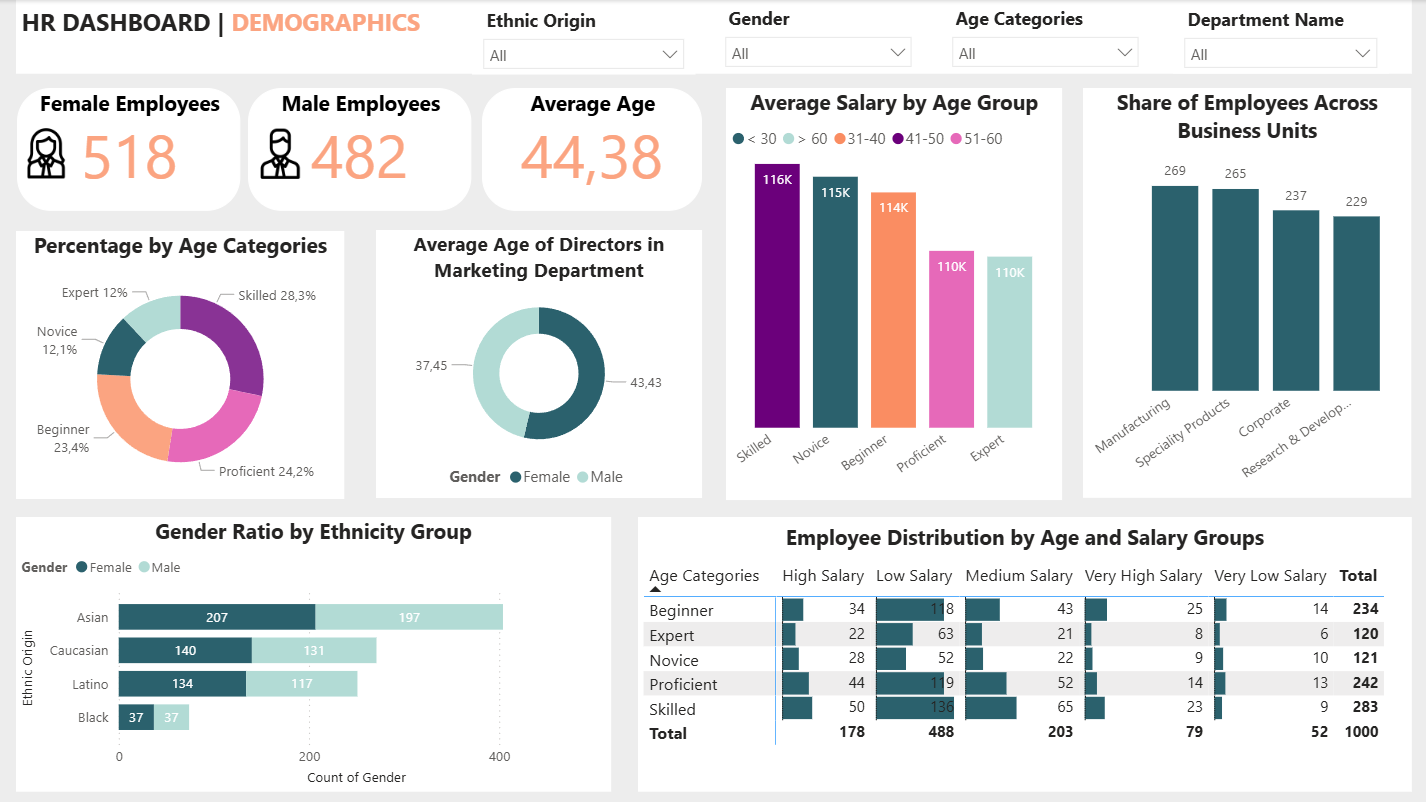

This screenshot's page, from the dashboard's own definition file:
{"tool":"powerbi","page":{"name":"Demographics","canvas":[1280,720],"ordinal":2},"visuals":[{"type":"barChart","title":"Gender Ratio by Ethnicity Group","fields":{"Category":["Ethnicity.Ethnic Origin"],"Series":["Employee Data.Gender"],"Y":["CountNonNull(Employee Data.Gender)"]},"box":[17.1,462.9,532.9,245.7],"z":0},{"type":"donutChart","title":"Average Age of Directors in Marketing Department","fields":{"Category":["Employee Data.Gender"],"Y":["Avg(Employee Data.Age)"]},"box":[339.1,206.4,291.8,240],"z":1000},{"type":"columnChart","title":"Average Salary by Age Group","fields":{"Category":["Employee Data.Age Categories"],"Y":["Avg(Employee Data.Annual Salary)"],"Series":["Employee Data.Age Group"]},"box":[652.9,78.6,301.4,368.6],"z":2000},{"type":"pivotTable","title":"Employee Distribution by Age and Salary Groups","fields":{"Values":["CountNonNull(Employee Data.EEID)"],"Rows":["Employee Data.Age Categories"],"Columns":["Employee Data.Salary Category"]},"box":[574.3,462.9,692.9,245.7],"z":3000},{"type":"donutChart","title":"Percentage by Age Categories","fields":{"Category":["Employee Data.Age Categories"],"Y":["CountNonNull(Employee Data.EEID)"]},"box":[17.1,207.1,294.3,240],"z":4000},{"type":"textbox","box":[17.3,0,1250,66.4],"z":5000},{"type":"slicer","fields":{"Values":["Ethnicity.Ethnic Origin"]},"box":[425.3,2,200,64.7],"z":6000},{"type":"slicer","fields":{"Values":["Employee Data.Gender"]},"box":[642,0,187.3,64.7],"z":7000},{"type":"slicer","fields":{"Values":["Employee Data.Age Categories"]},"box":[845.3,0,187.3,64.7],"z":8000},{"type":"card","title":"Female Employees","fields":{"Values":["CountNonNull(Employee Data.Gender)"]},"box":[17.8,78.9,200,110],"z":9000},{"type":"card","title":"Male Employees","fields":{"Values":["CountNonNull(Employee Data.Gender)"]},"box":[225,79.2,200,110],"z":10000},{"type":"card","title":"Average Age","fields":{"Values":["Avg(Employee Data.Age)"]},"box":[434.2,79.2,196.7,110],"z":11000},{"type":"image","box":[225.7,84.3,55.7,107.1],"z":12000},{"type":"image","box":[17.1,78.6,54.3,117.1],"z":13000},{"type":"slicer","fields":{"Values":["Department.Department Name"]},"box":[1053.3,0.7,192.7,64.7],"z":14000},{"type":"columnChart","title":"Share of Employees Across Business Units","fields":{"Category":["Employee Data.Business Unit"],"Y":["CountNonNull(Employee Data.EEID)"]},"box":[972.9,78.6,294.3,367.1],"z":15000}]}

Visuals, with their boxes in screenshot pixels (x1, y1, x2, y2), scaled from the page's 1280x720 canvas onto the 1426x802 screenshot:
"Gender Ratio by Ethnicity Group" barChart: [19, 516, 613, 789]
"Average Age of Directors in Marketing Department" donutChart: [378, 230, 703, 497]
"Average Salary by Age Group" columnChart: [727, 88, 1063, 498]
"Employee Distribution by Age and Salary Groups" pivotTable: [640, 516, 1412, 789]
"Percentage by Age Categories" donutChart: [19, 231, 347, 498]
textbox: [19, 0, 1412, 74]
slicer - Ethnicity.Ethnic Origin: [474, 2, 697, 74]
slicer - Employee Data.Gender: [715, 0, 924, 72]
slicer - Employee Data.Age Categories: [942, 0, 1150, 72]
"Female Employees" card: [20, 88, 243, 210]
"Male Employees" card: [251, 88, 473, 211]
"Average Age" card: [484, 88, 703, 211]
image: [251, 94, 313, 213]
image: [19, 88, 80, 218]
slicer - Department.Department Name: [1173, 1, 1388, 73]
"Share of Employees Across Business Units" columnChart: [1084, 88, 1412, 496]
